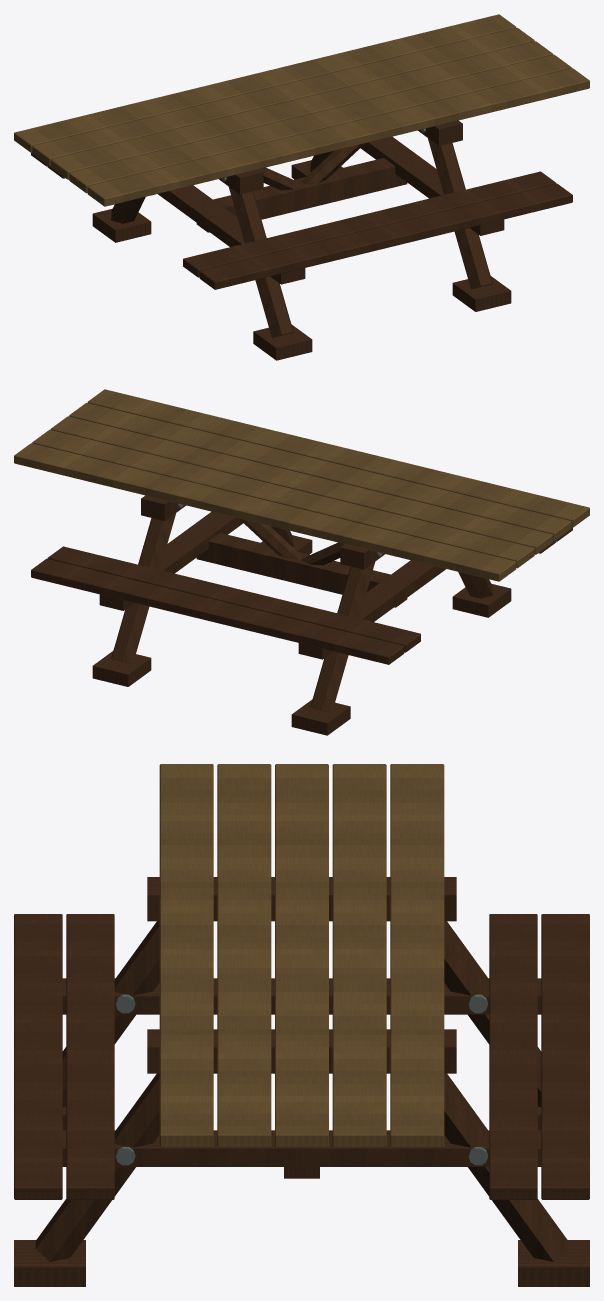
Rendered from level_camp_picnic_table.glb.
3 renders of one model, top to bottom at view 1: azimuth 30°, elevation 25°; view 2: azimuth 150°, elevation 25°; view 3: azimuth 270°, elevation 25°, orthographic. The views are drawn at different scales.
Visible parts, largest first — view 1: level_camp_picnic_table; view 2: level_camp_picnic_table; view 3: level_camp_picnic_table.
Boxes of the visible parts, <box> form: level_camp_picnic_table: <box>14,14,589,360</box>; level_camp_picnic_table: <box>14,389,589,735</box>; level_camp_picnic_table: <box>14,764,589,1286</box>.
Bounding box in the file's own units: 2.44 × 0.76 × 1.6.
3 materials, 3 textured.
